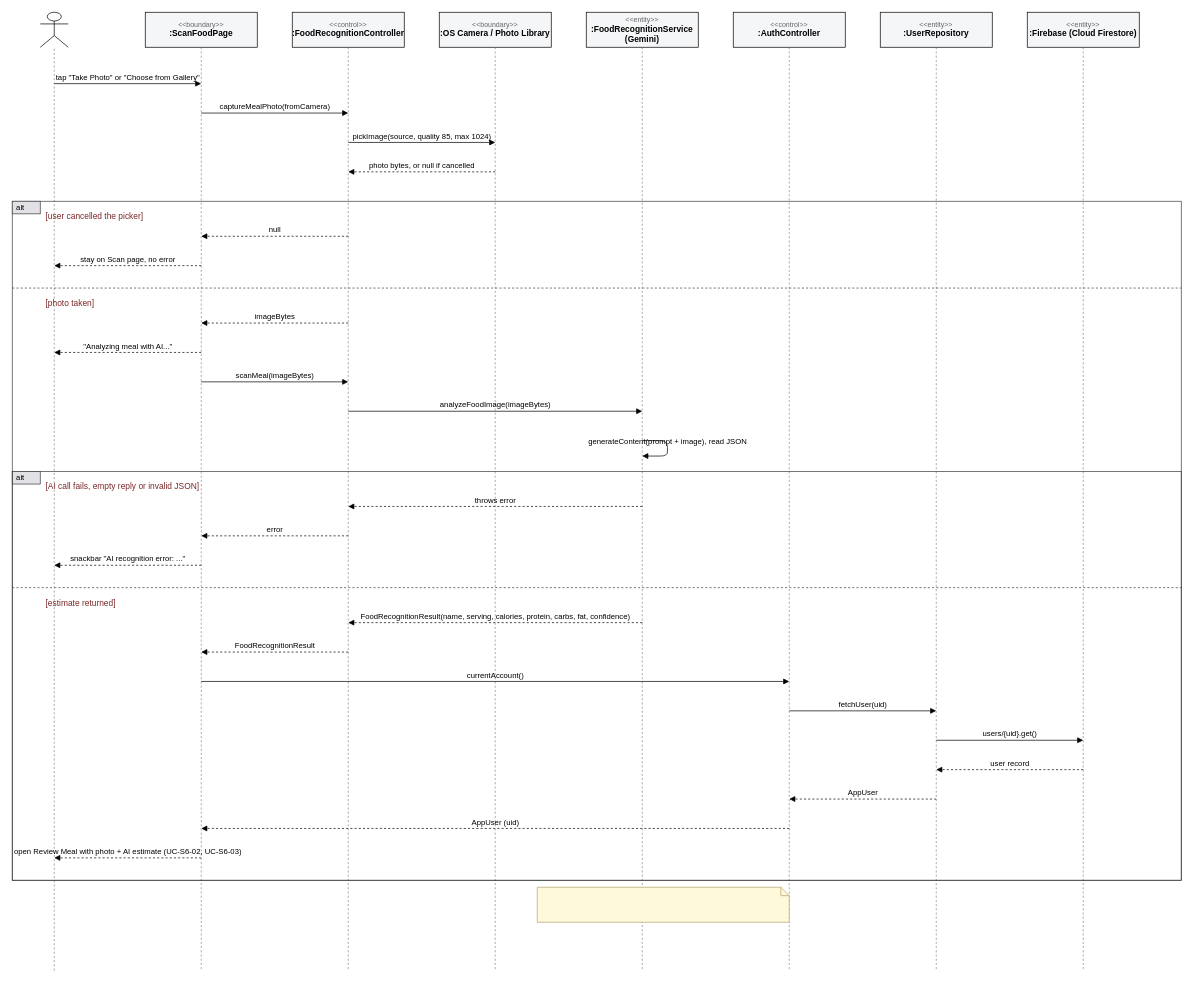
Some shapes in this 1194 by 984 pixel diagram are drawn without their labels. Each missing label, with the box of its shape:
Nothing is saved here. The AI estimate is only shown for review.: (537, 887, 789, 922)
Premium User: (40, 12, 68, 47)
